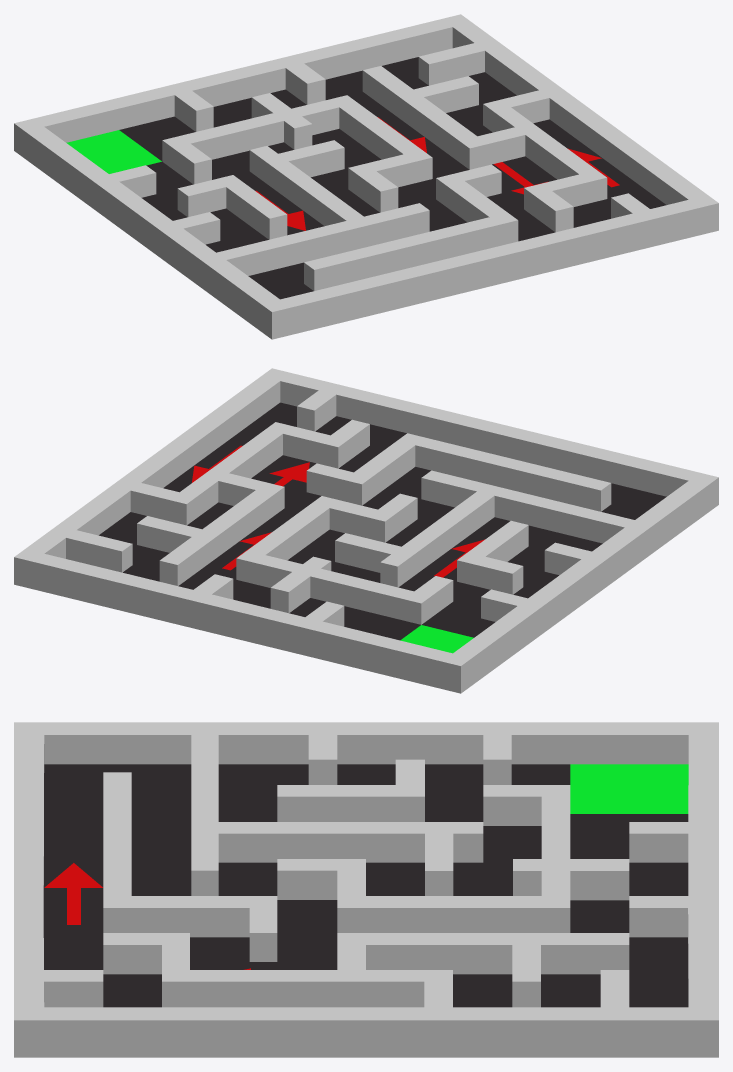
File: mazeaARROWWITHARR.fbx
3 views of the same model, one above another, from view 1: azimuth 30°, elevation 25°; view 2: azimuth 150°, elevation 25°; view 3: azimuth 270°, elevation 25° (orthographic). The views are drawn at different scales.
Visible parts, largest first — view 1: Plane.003; view 2: Plane.003; view 3: Plane.003.
Part boxes in pixels (x1,y1,x2,y2): Plane.003: (14,14,718,339); Plane.003: (14,368,718,693); Plane.003: (14,722,718,1057).
Size of the model in its own units: 1866 by 110 by 1866.
